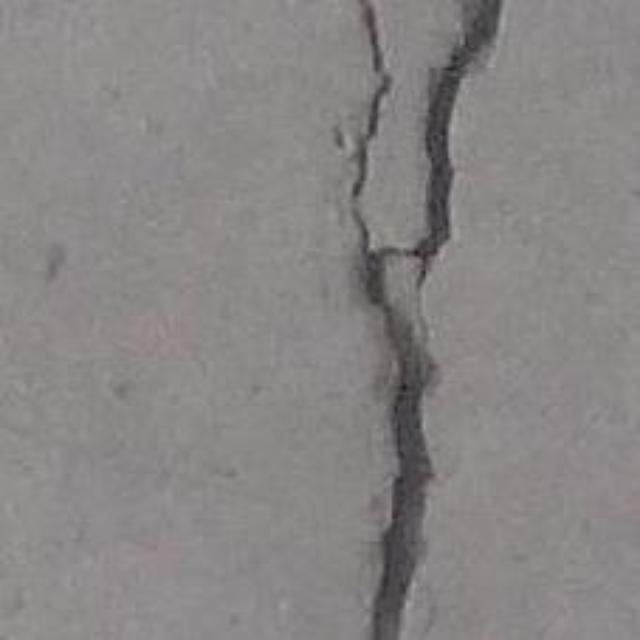crack: (350, 0, 501, 639)
